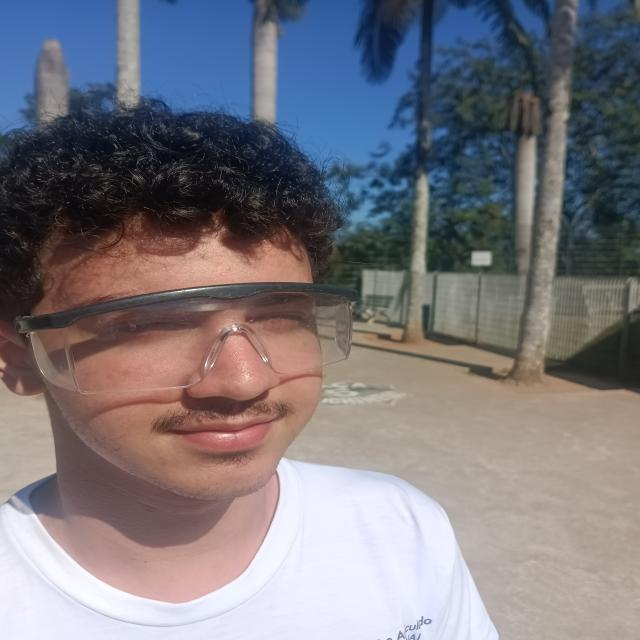oculos-epi: (15, 281, 358, 395)
